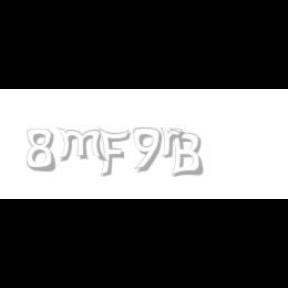8: (26, 128, 55, 172)
9: (132, 128, 162, 172)
B: (169, 128, 203, 178)
F: (98, 128, 130, 178)
m: (56, 128, 108, 162)
r: (160, 128, 188, 158)
